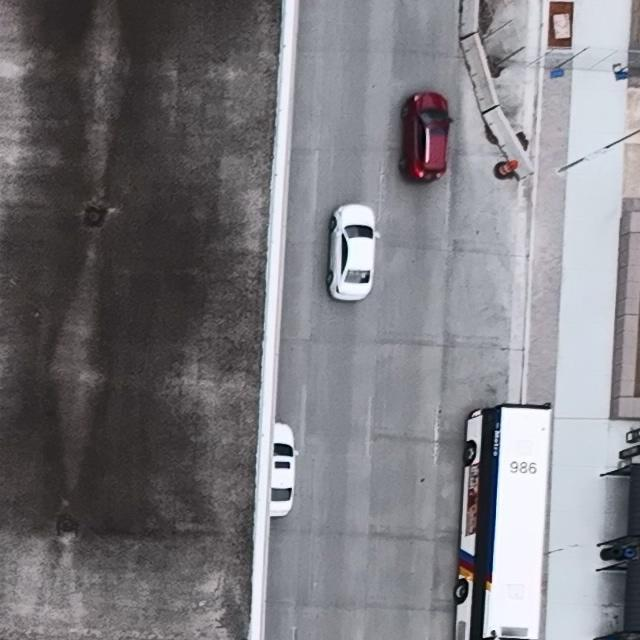car: (454, 402, 554, 640), (327, 203, 380, 302), (400, 91, 453, 183), (268, 421, 297, 517)
